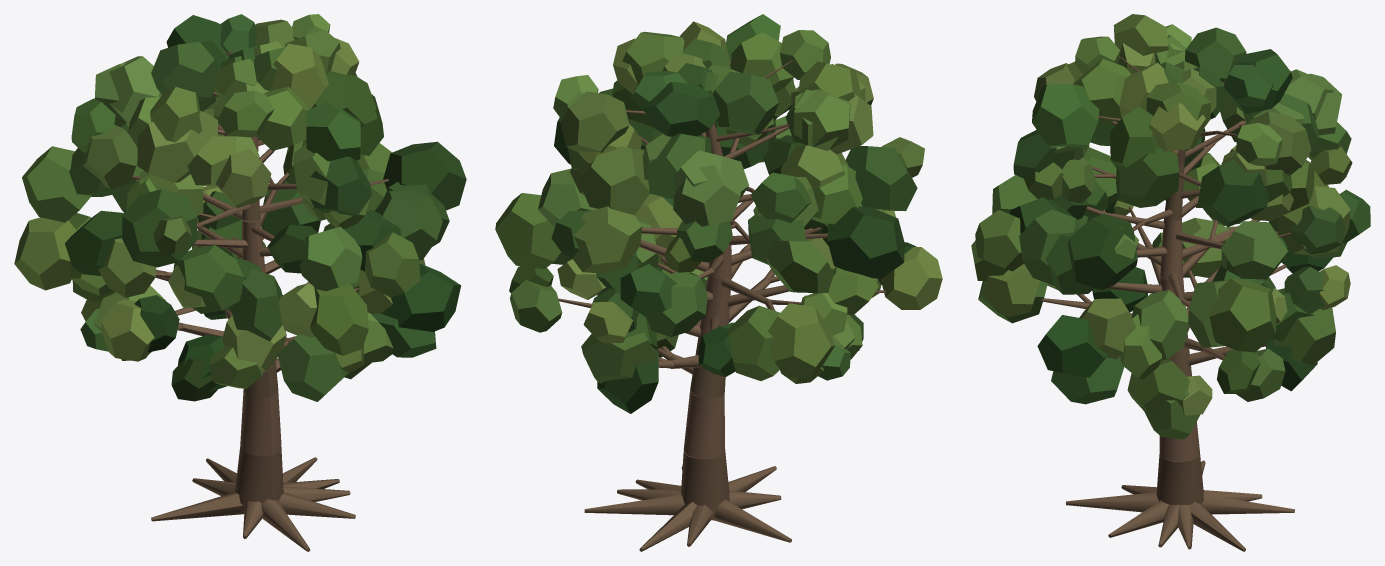
File: tree_normal_small_ancient_a.glb
The picture shows the model from 3 angles, left to right: view 1: azimuth 30°, elevation 25°; view 2: azimuth 150°, elevation 25°; view 3: azimuth 270°, elevation 25°; orthographic projection. The views are drawn at different scales.
Visible parts, largest first — view 1: leaves, wood; view 2: leaves, wood; view 3: leaves, wood.
Part boxes in pixels (x1=…): leaves: x1=14, y1=14, x2=466, y2=401; wood: x1=132, y1=18, x2=388, y2=551; leaves: x1=495, y1=14, x2=942, y2=413; wood: x1=558, y1=60, x2=885, y2=551; leaves: x1=971, y1=14, x2=1370, y2=439; wood: x1=1037, y1=56, x2=1309, y2=551.
Size of the model in its own units: 4.89 by 6 by 4.71.
